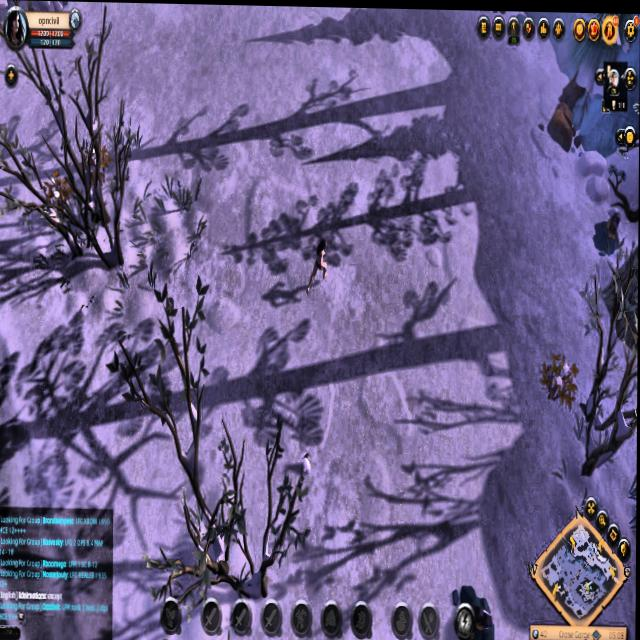copper_ore: (451, 577, 500, 640), (590, 202, 625, 257)
cotton: (539, 346, 581, 411)
limestone: (544, 93, 580, 157)
